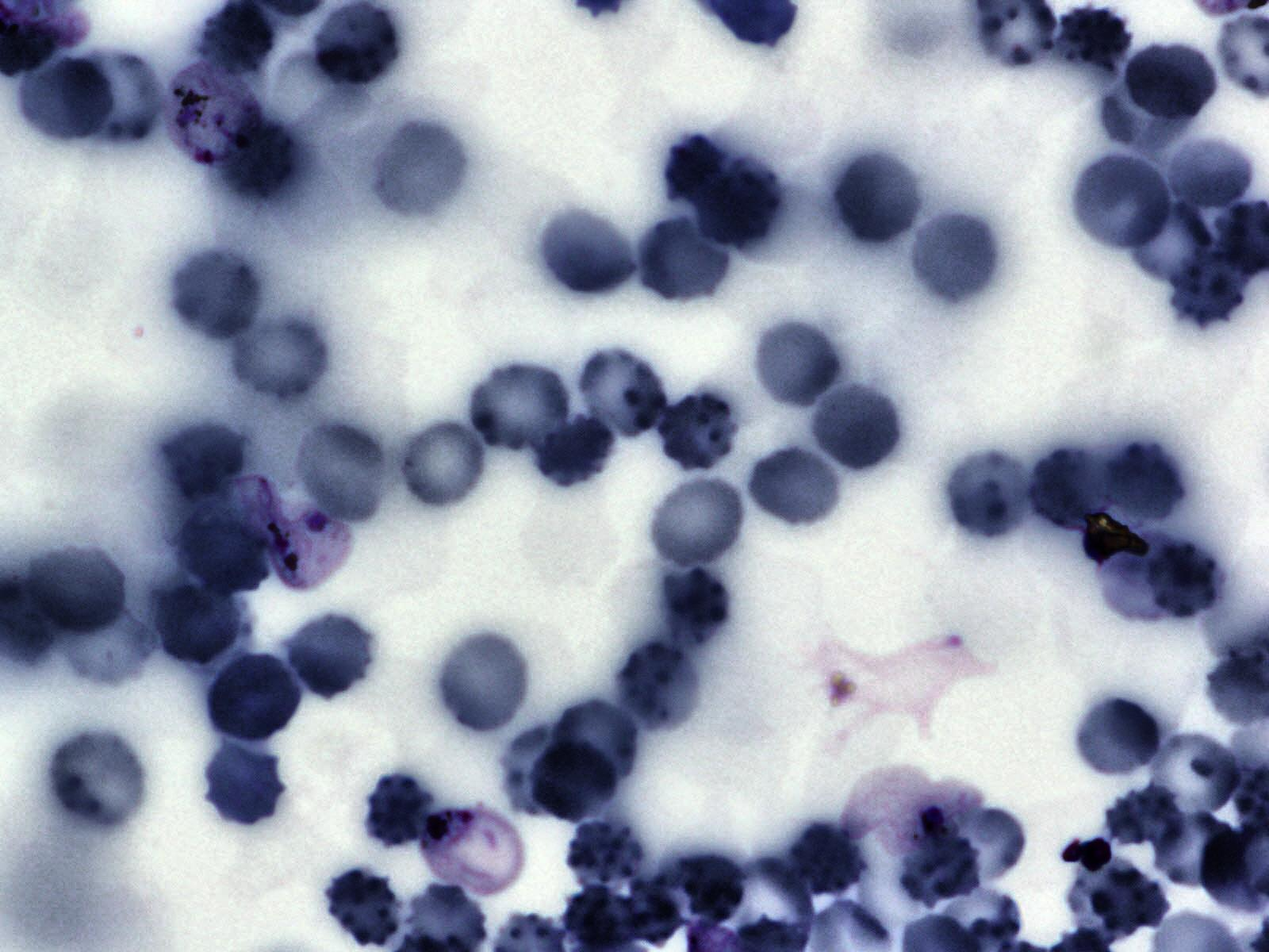Infected: (234, 478, 353, 590), (843, 774, 984, 852), (419, 802, 527, 903), (168, 63, 263, 165)
Uninfected: (434, 630, 532, 736), (46, 727, 148, 828), (1072, 152, 1172, 253), (466, 359, 571, 455), (371, 121, 470, 221), (807, 377, 905, 476), (202, 649, 302, 746), (646, 473, 746, 570), (635, 210, 733, 308), (572, 343, 669, 442), (226, 309, 328, 403), (907, 208, 1002, 308), (538, 204, 638, 299), (830, 148, 923, 246), (394, 413, 486, 512), (750, 316, 844, 410), (167, 248, 260, 343), (298, 423, 389, 520), (66, 51, 161, 143), (282, 609, 376, 701), (746, 440, 842, 530), (1121, 38, 1219, 125), (616, 636, 707, 728), (200, 735, 289, 829), (30, 547, 127, 631), (1101, 70, 1201, 151), (1147, 735, 1239, 818), (654, 387, 742, 473), (947, 451, 1031, 539), (18, 59, 109, 140), (554, 699, 639, 785), (691, 165, 777, 249), (938, 806, 1026, 888), (59, 606, 153, 682), (151, 585, 243, 662), (180, 520, 273, 596), (502, 726, 578, 818), (1129, 198, 1211, 283), (1029, 448, 1111, 533), (316, 1, 398, 83), (657, 850, 748, 923), (531, 745, 616, 823), (1079, 697, 1160, 777), (319, 869, 403, 946), (1166, 251, 1250, 328), (1154, 812, 1240, 886), (163, 423, 244, 501), (1169, 139, 1254, 210), (566, 816, 643, 894), (365, 770, 439, 851), (533, 414, 614, 487), (661, 566, 731, 650), (1087, 867, 1172, 935), (224, 119, 295, 200), (1110, 444, 1184, 520), (1148, 545, 1225, 616), (790, 822, 863, 896), (902, 837, 983, 901), (1105, 784, 1186, 848), (661, 136, 731, 207), (1057, 6, 1132, 70), (624, 876, 687, 949)
